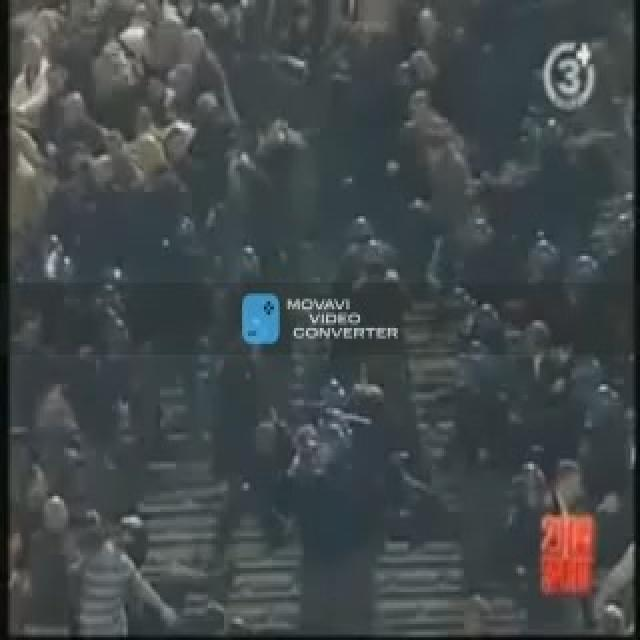non-voilence: (6, 0, 634, 637), (240, 291, 280, 344)
